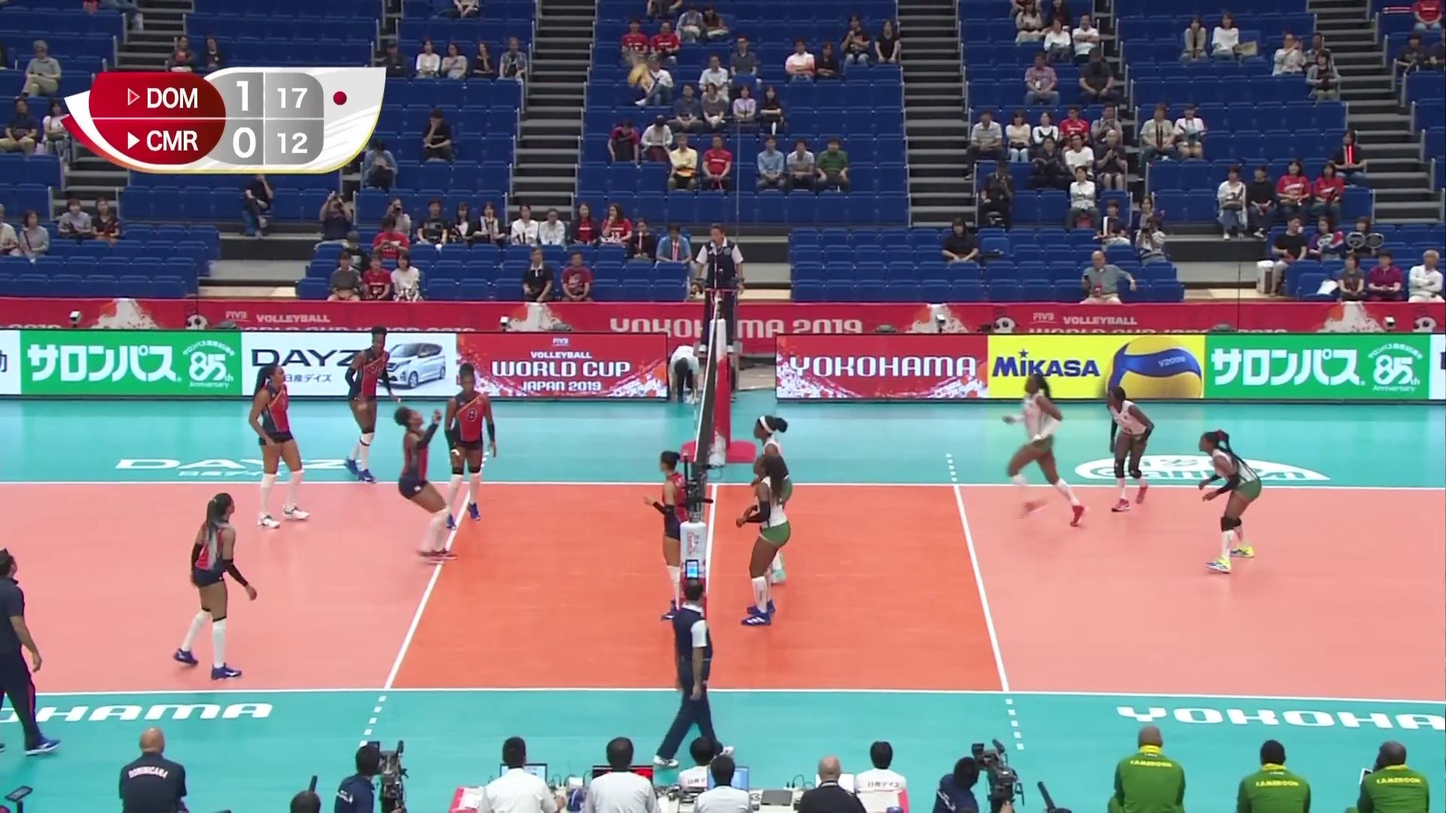player: (173, 492, 257, 677), (1003, 371, 1086, 523), (249, 364, 314, 527), (392, 408, 459, 564), (442, 361, 500, 527), (736, 456, 791, 625), (642, 452, 695, 625), (1200, 431, 1264, 571), (344, 325, 397, 483), (746, 415, 792, 587), (1100, 385, 1154, 509)
refree: (654, 577, 735, 767), (694, 226, 743, 352)
